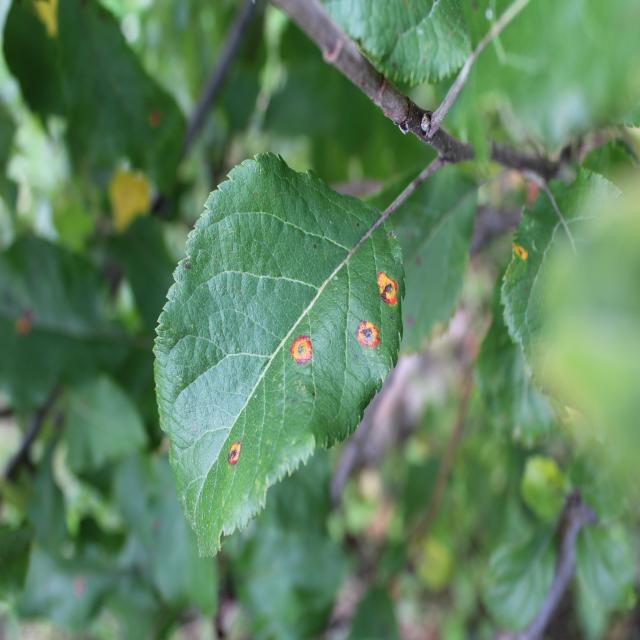Rust: (276, 321, 316, 375), (352, 314, 386, 364), (376, 268, 404, 323), (221, 426, 244, 478), (501, 228, 534, 264)
